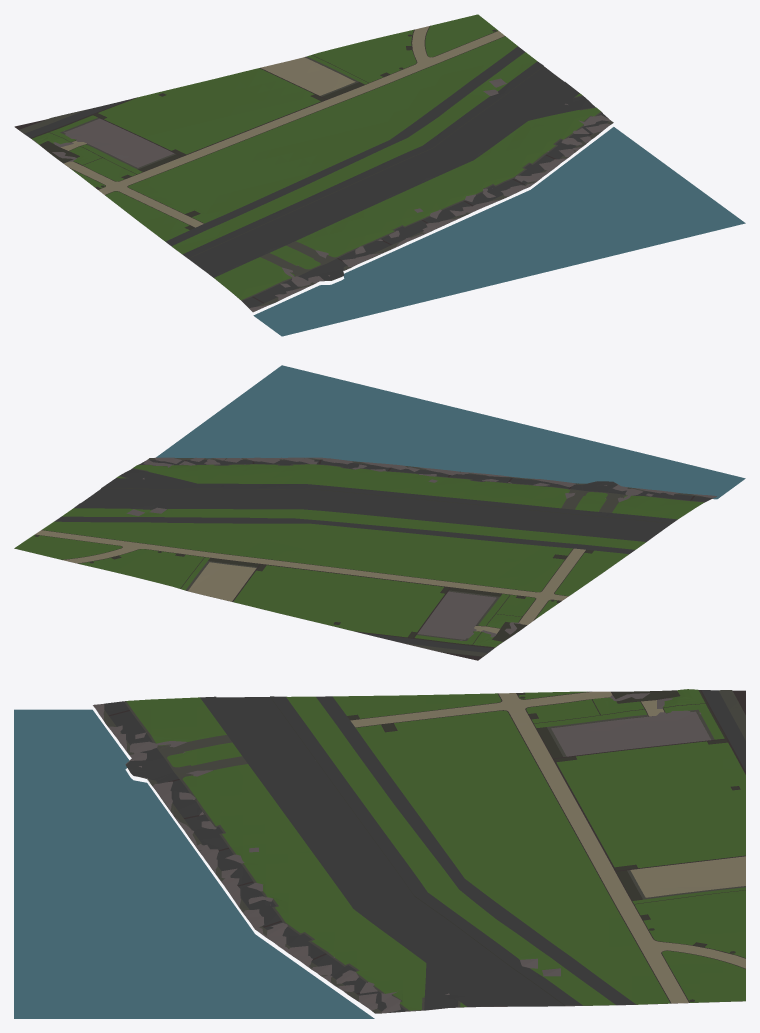
The picture shows the model from 3 angles, top to bottom: view 1: azimuth 30°, elevation 25°; view 2: azimuth 150°, elevation 25°; view 3: azimuth 270°, elevation 25°; orthographic projection. The views are drawn at different scales.
Visible parts, largest first — view 1: c_m02_p12; view 2: c_m02_p12; view 3: c_m02_p12.
Part boxes in pixels (x1=…): c_m02_p12: x1=14, y1=14, x2=745, y2=336; c_m02_p12: x1=14, y1=365, x2=745, y2=660; c_m02_p12: x1=14, y1=689, x2=745, y2=1018.
Bounding box in the file's own units: 128 × 3.98 × 128.
